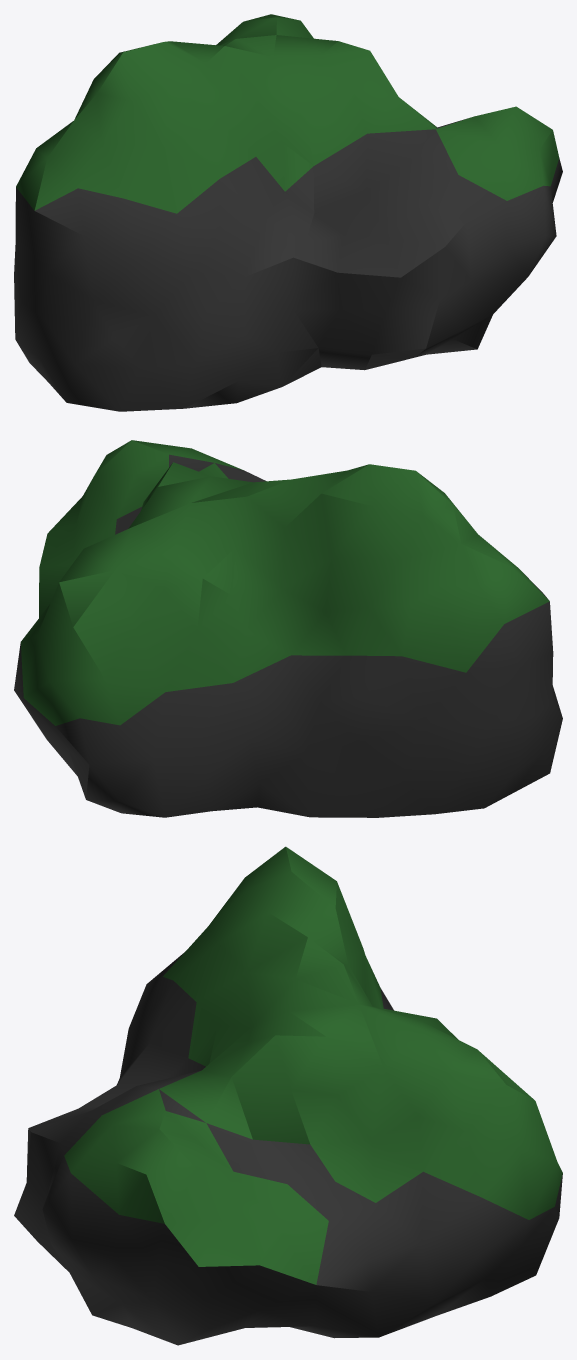
File: Stone_5.fbx
3 views of the same model, one above another, from view 1: azimuth 30°, elevation 25°; view 2: azimuth 150°, elevation 25°; view 3: azimuth 270°, elevation 25° (orthographic). The views are drawn at different scales.
Parts seen in each view (by area): view 1: Stone; view 2: Stone; view 3: Stone.
Part boxes in pixels (bbox=[...]): Stone: bbox=[14, 14, 562, 411]; Stone: bbox=[14, 440, 562, 817]; Stone: bbox=[14, 846, 562, 1345].
Size of the model in its own units: 2.11 by 1.2 by 1.8.
